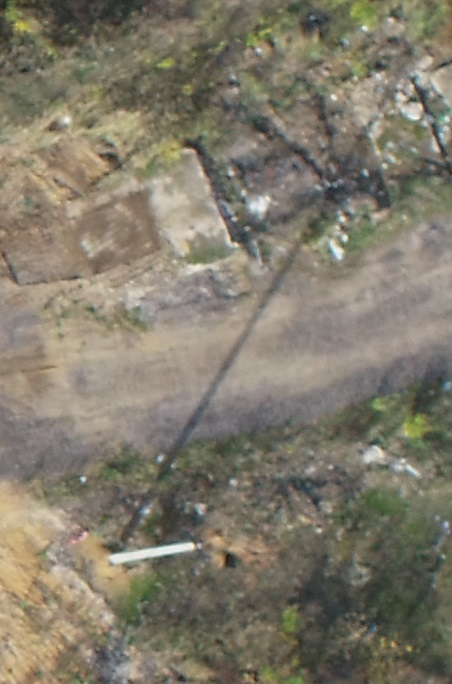opora: (107, 496, 205, 565)
